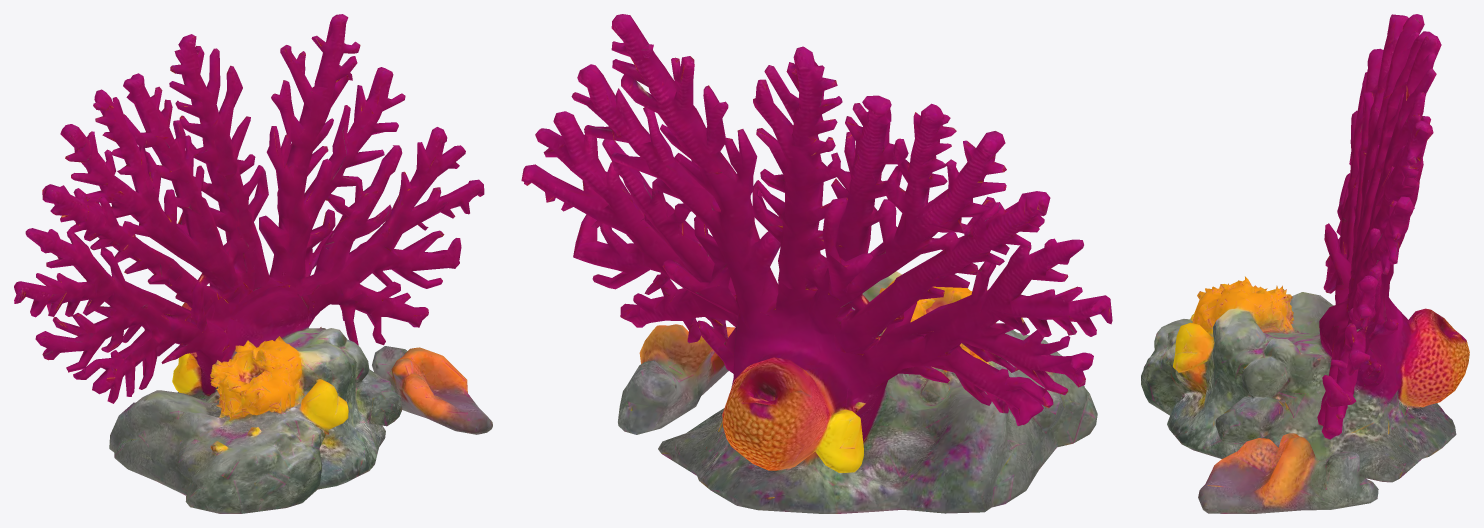
File: photorealistic_coral_3.glb
The picture shows the model from 3 angles, left to right: view 1: azimuth 30°, elevation 25°; view 2: azimuth 150°, elevation 25°; view 3: azimuth 270°, elevation 25°; orthographic projection. The views are drawn at different scales.
Parts seen in each view (by area): view 1: Mesh1.0; view 2: Mesh1.0; view 3: Mesh1.0.
Part boxes in pixels (x1,y1,x2,y2): Mesh1.0: (14,14,492,513); Mesh1.0: (521,14,1112,513); Mesh1.0: (1141,14,1469,513).
Bounding box in the file's own units: 1.91 × 1.42 × 1.11.
1 material, 1 textured.
